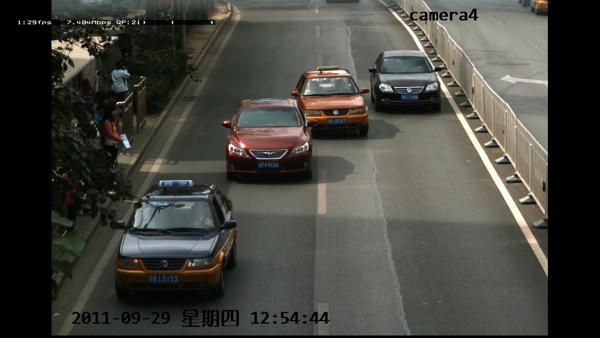car: (111, 177, 242, 301), (223, 97, 319, 182), (290, 65, 371, 138), (368, 50, 445, 114)
